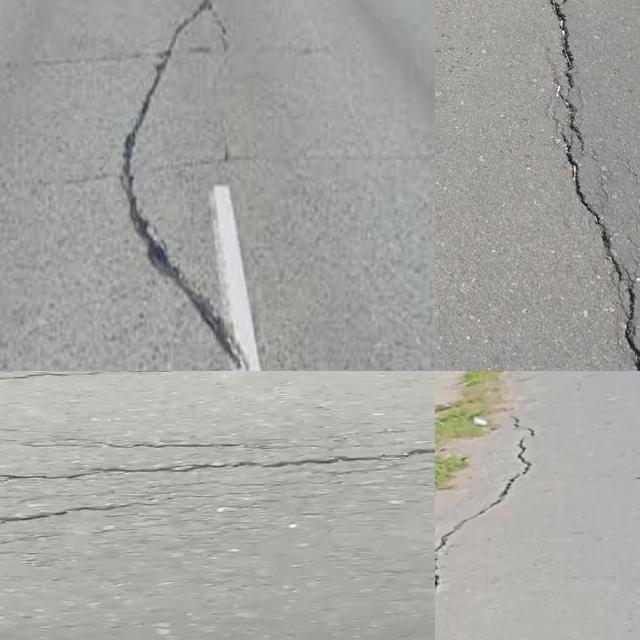Melintang: (0, 440, 435, 494)
Memanjang: (100, 0, 272, 371), (538, 0, 640, 371), (435, 410, 537, 610)
